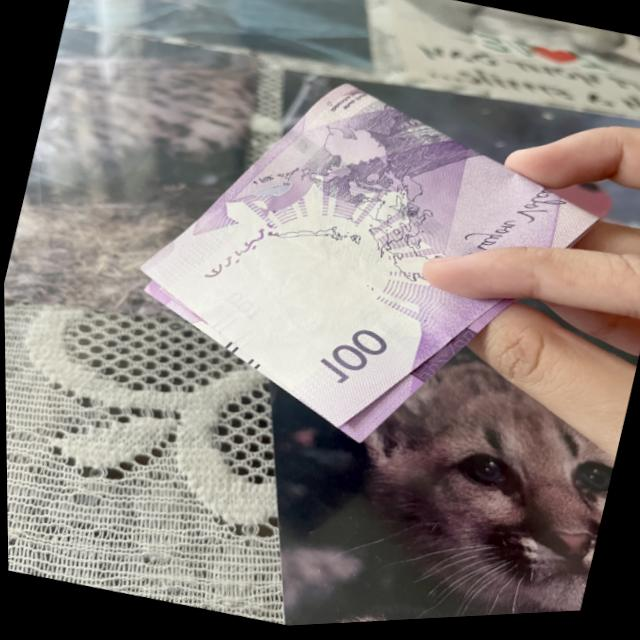value_watermark: (213, 282, 274, 332)
watermark: (179, 224, 390, 381)
